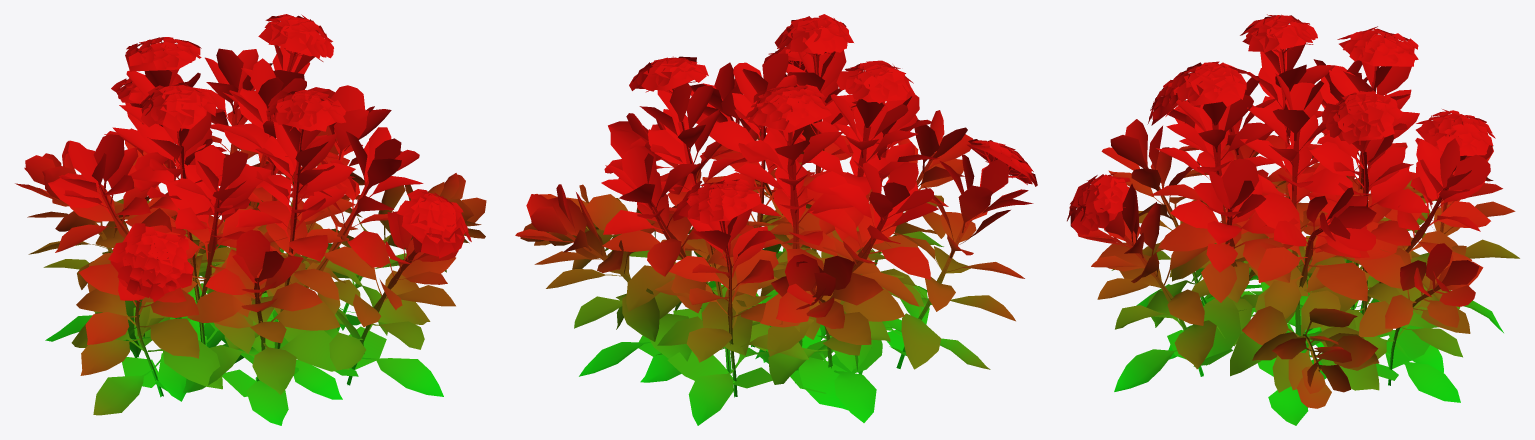
Rendered from Var5_LOD3.fbx.
3 renders of one model, left to right at view 1: azimuth 30°, elevation 25°; view 2: azimuth 150°, elevation 25°; view 3: azimuth 270°, elevation 25°, orthographic. The views are drawn at different scales.
Parts seen in each view (by area): view 1: _nn12_Var5_LOD3; view 2: _nn12_Var5_LOD3; view 3: _nn12_Var5_LOD3.
Part boxes in pixels (x1,y1,x2,y2): _nn12_Var5_LOD3: (15,14,486,425); _nn12_Var5_LOD3: (515,14,1037,425); _nn12_Var5_LOD3: (1067,14,1519,425).
Bounding box in the file's own units: 131 × 85.81 × 118.
